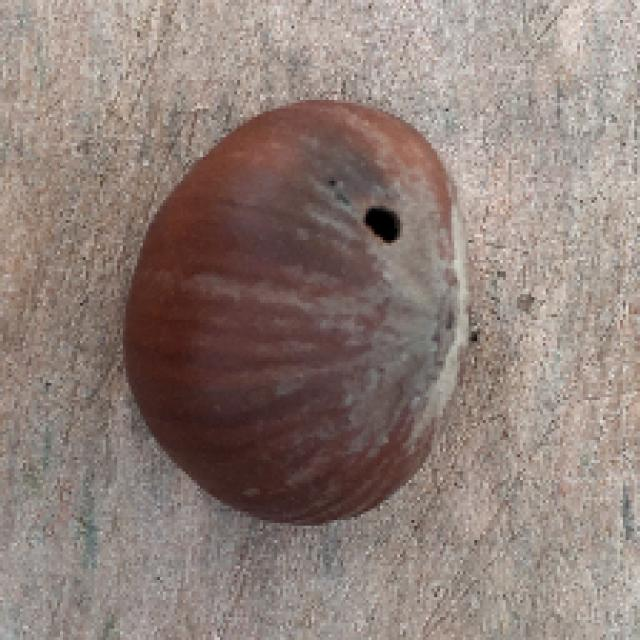DamagedHazelnut: (121, 101, 469, 526)
